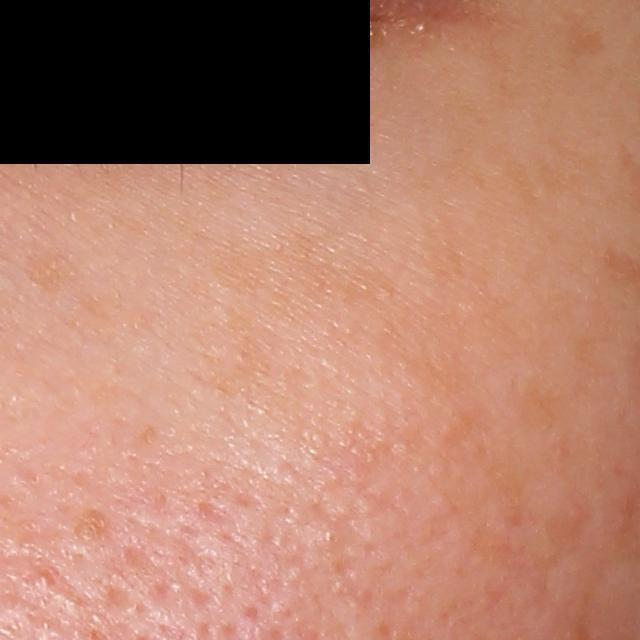melasma: (195, 225, 400, 325), (471, 135, 611, 223), (19, 247, 90, 306), (511, 370, 572, 436), (559, 8, 614, 67)
